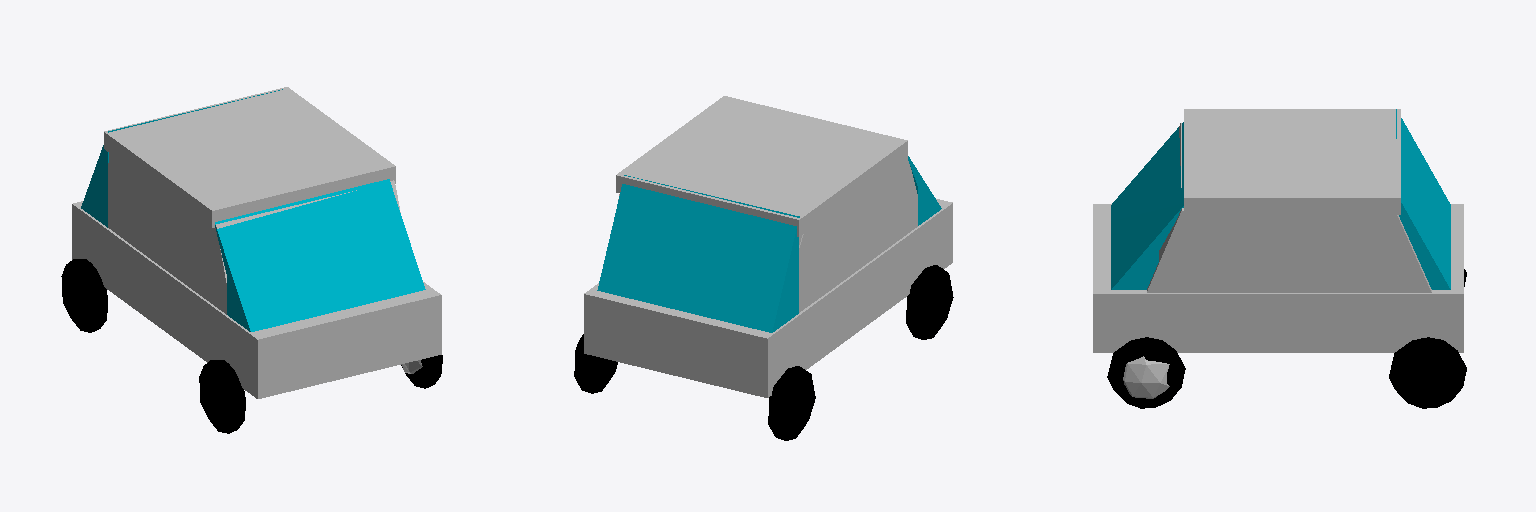
File: Car.obj
The picture shows the model from 3 angles: view 1: azimuth 30°, elevation 25°; view 2: azimuth 150°, elevation 25°; view 3: azimuth 270°, elevation 25°; orthographic projection.
Visible parts, largest first — view 1: Cube, Cube.003, Cube.001, Cube.004, Sphere.006, Sphere.005, Cube.002, Sphere.007, Sphere.004, Sphere.001; view 2: Cube, Cube.003, Cube.002, Cube.004, Sphere.005, Sphere.006, Sphere.002, Cube.001, Sphere.004, Sphere.007; view 3: Cube, Cube.003, Cube.004, Cube.001, Cube.002, Sphere.002, Sphere.001, Sphere, Sphere.003.
Boxes of the visible parts, x1=… form: Cube: x1=72, y1=201, x2=441, y2=398; Cube.003: x1=104, y1=87, x2=395, y2=227; Cube.001: x1=215, y1=179, x2=425, y2=331; Cube.004: x1=108, y1=156, x2=400, y2=314; Sphere.006: x1=199, y1=360, x2=245, y2=433; Sphere.005: x1=61, y1=259, x2=107, y2=332; Cube.002: x1=81, y1=89, x2=282, y2=227; Sphere.007: x1=200, y1=375, x2=225, y2=418; Sphere.004: x1=63, y1=274, x2=87, y2=318; Sphere.001: x1=401, y1=355, x2=442, y2=388; Cube: x1=584, y1=199, x2=952, y2=397; Cube.003: x1=616, y1=96, x2=907, y2=236; Cube.002: x1=597, y1=175, x2=799, y2=332; Cube.004: x1=618, y1=158, x2=917, y2=312; Sphere.005: x1=768, y1=366, x2=815, y2=440; Sphere.006: x1=906, y1=265, x2=953, y2=339; Sphere.002: x1=574, y1=334, x2=614, y2=393; Cube.001: x1=908, y1=156, x2=941, y2=225; Sphere.004: x1=789, y1=382, x2=814, y2=429; Sphere.007: x1=926, y1=281, x2=952, y2=328; Cube: x1=1093, y1=204, x2=1463, y2=352; Cube.003: x1=1184, y1=109, x2=1400, y2=214; Cube.004: x1=1147, y1=123, x2=1431, y2=292; Cube.001: x1=1111, y1=122, x2=1183, y2=289; Cube.002: x1=1396, y1=109, x2=1450, y2=289; Sphere.002: x1=1389, y1=337, x2=1466, y2=408; Sphere.001: x1=1107, y1=337, x2=1185, y2=408; Sphere: x1=1123, y1=356, x2=1169, y2=398; Sphere.003: x1=1405, y1=357, x2=1450, y2=398.
Bounding box in the file's own units: 3.91 × 3.43 × 5.6.